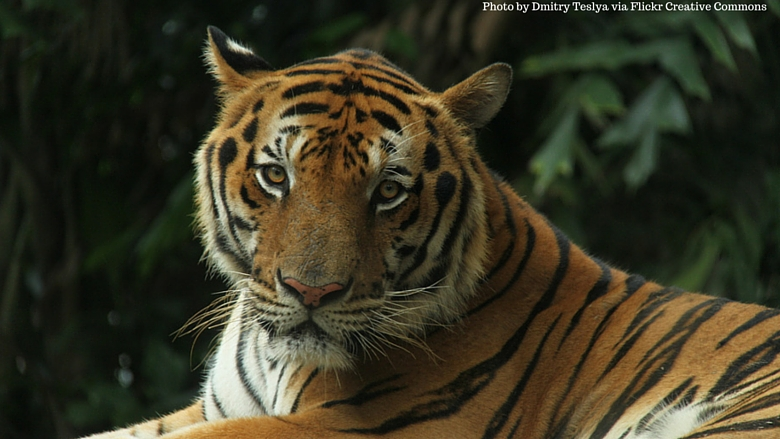Tiger: (159, 21, 780, 425)
